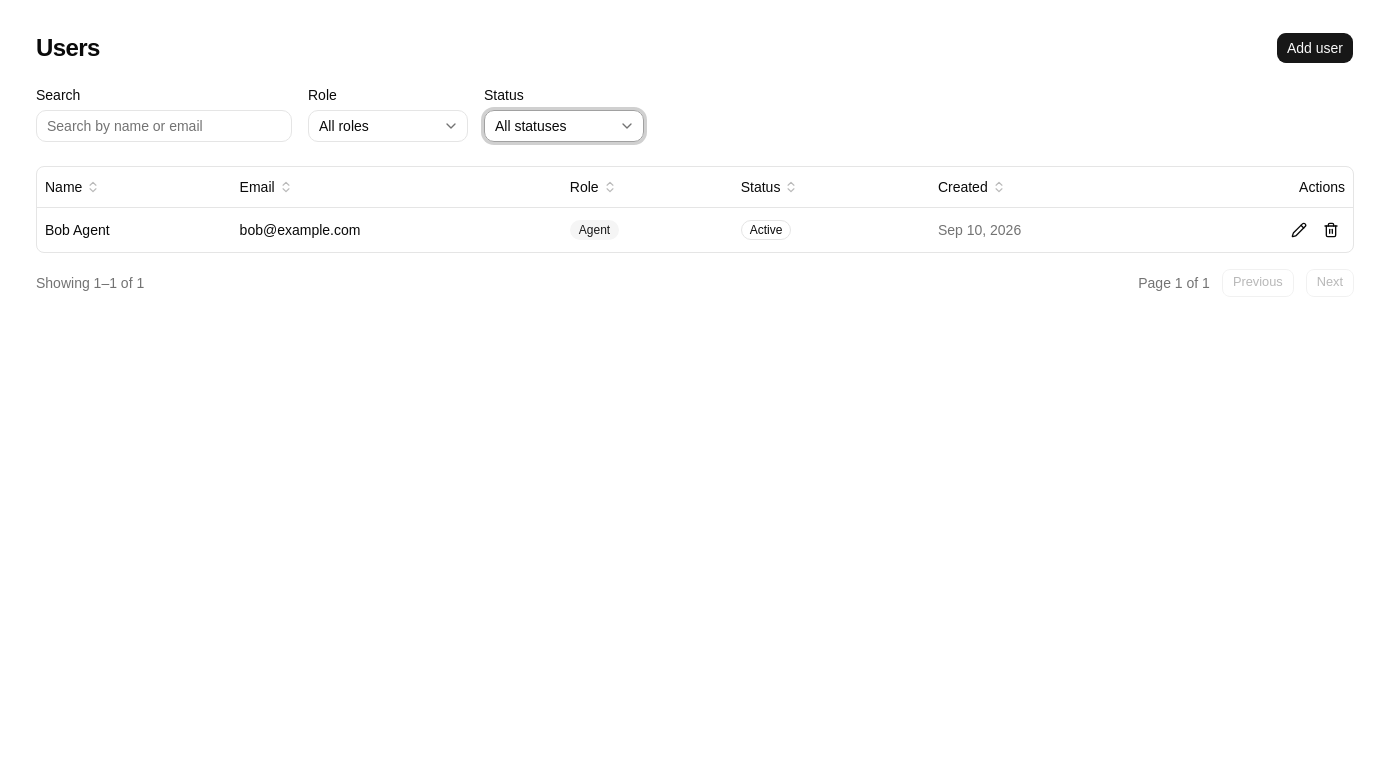
it: UsersPage › narrows to the active accounts through the select
Press Arrowdown
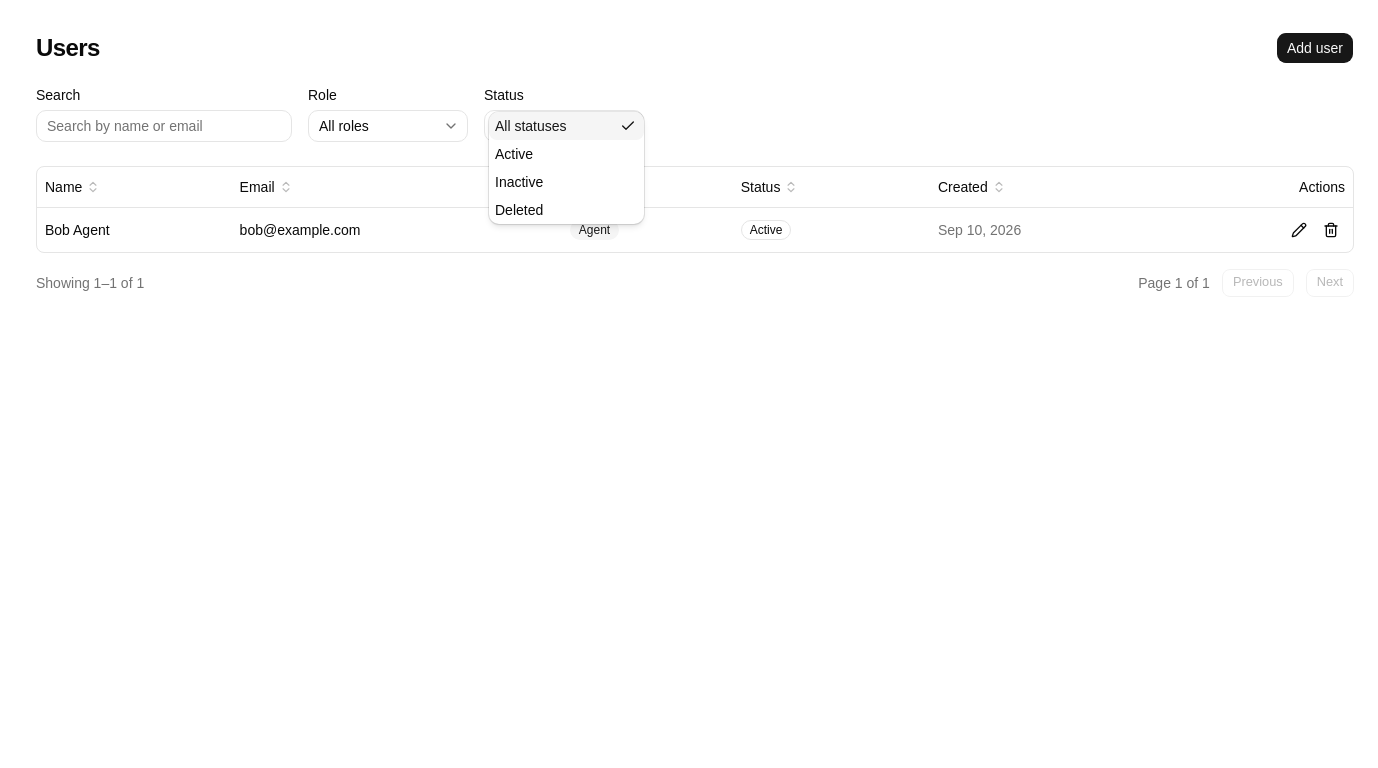
Click the option "Active" at (514, 154), box [495, 146, 533, 162]
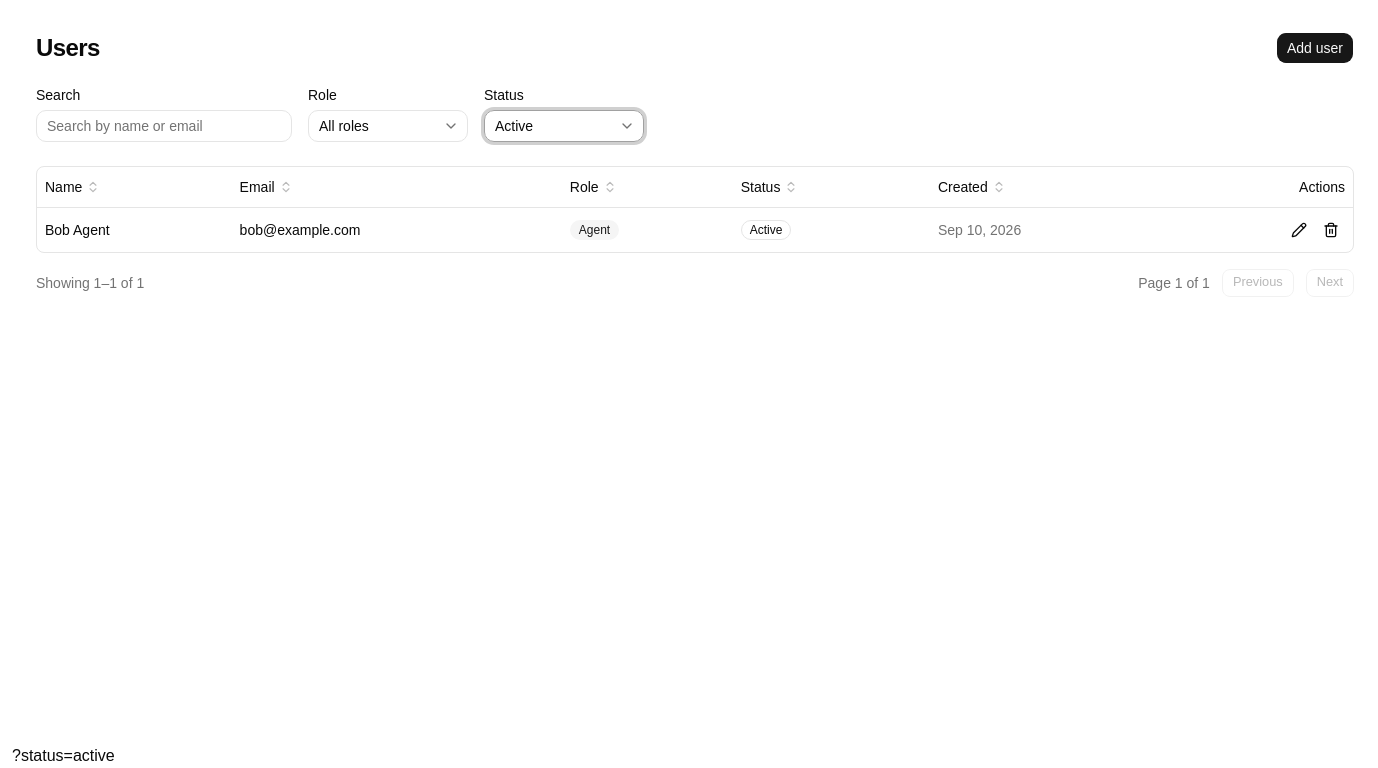
expect the text with test id "location-search" reads "?status=active": met, box [12, 747, 115, 764]
